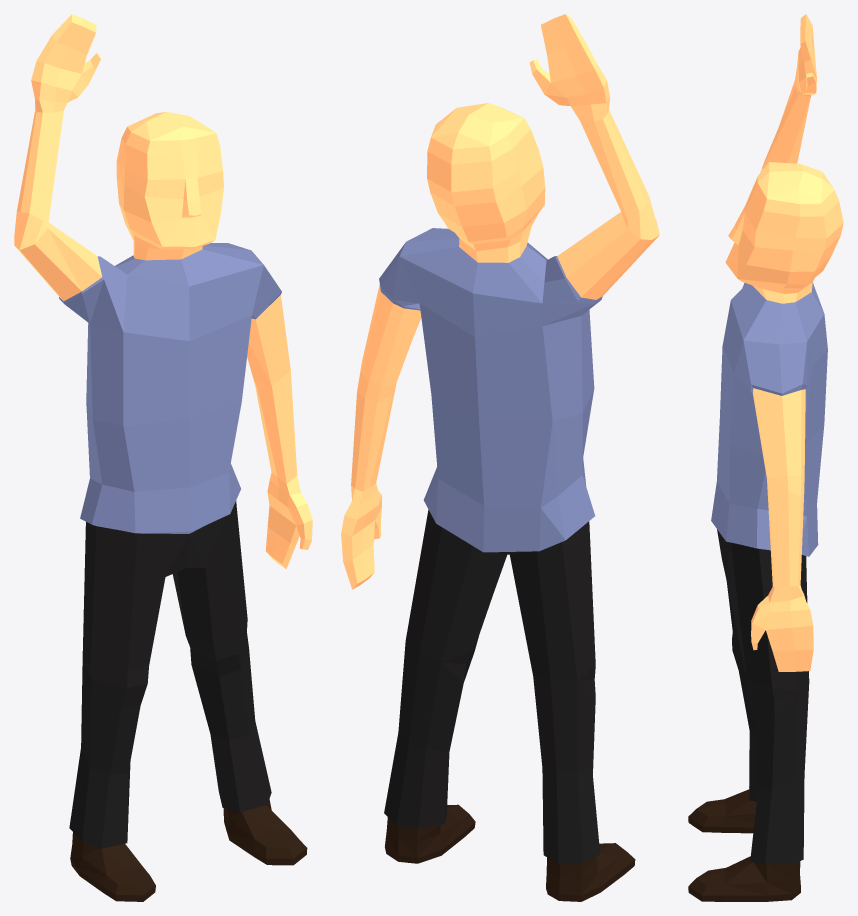
File: male_standing_waving.glb
3 views of the same model, side by side, from view 1: azimuth 30°, elevation 25°; view 2: azimuth 150°, elevation 25°; view 3: azimuth 270°, elevation 25° (orthographic). The views are drawn at different scales.
Parts seen in each view (by area): view 1: Male_Standing_Waving; view 2: Male_Standing_Waving; view 3: Male_Standing_Waving.
Part boxes in pixels (x1,y1,x2,y2): Male_Standing_Waving: (14, 14, 312, 901); Male_Standing_Waving: (341, 14, 659, 901); Male_Standing_Waving: (688, 14, 843, 901).
Size of the model in its own units: 0.6483 by 1.85 by 0.3238.
